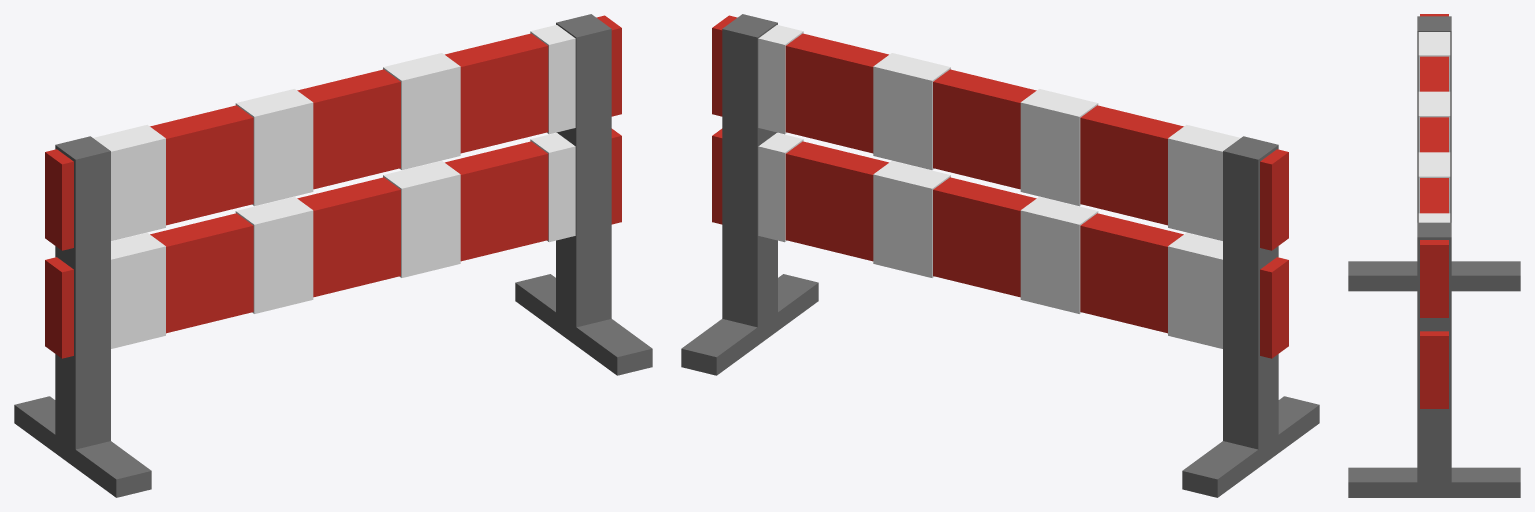
Rendered from Pembatas.fbx.
3 views of the same model, side by side, from view 1: azimuth 30°, elevation 25°; view 2: azimuth 150°, elevation 25°; view 3: azimuth 270°, elevation 25° (orthographic). The views are drawn at different scales.
Visible parts, largest first — view 1: Pembatas; view 2: Pembatas; view 3: Pembatas.
Part boxes in pixels (x1,y1,x2,y2): Pembatas: (14, 14, 652, 497); Pembatas: (681, 14, 1319, 497); Pembatas: (1348, 14, 1520, 497).
Bounding box in the file's own units: 190 × 100 × 60.
